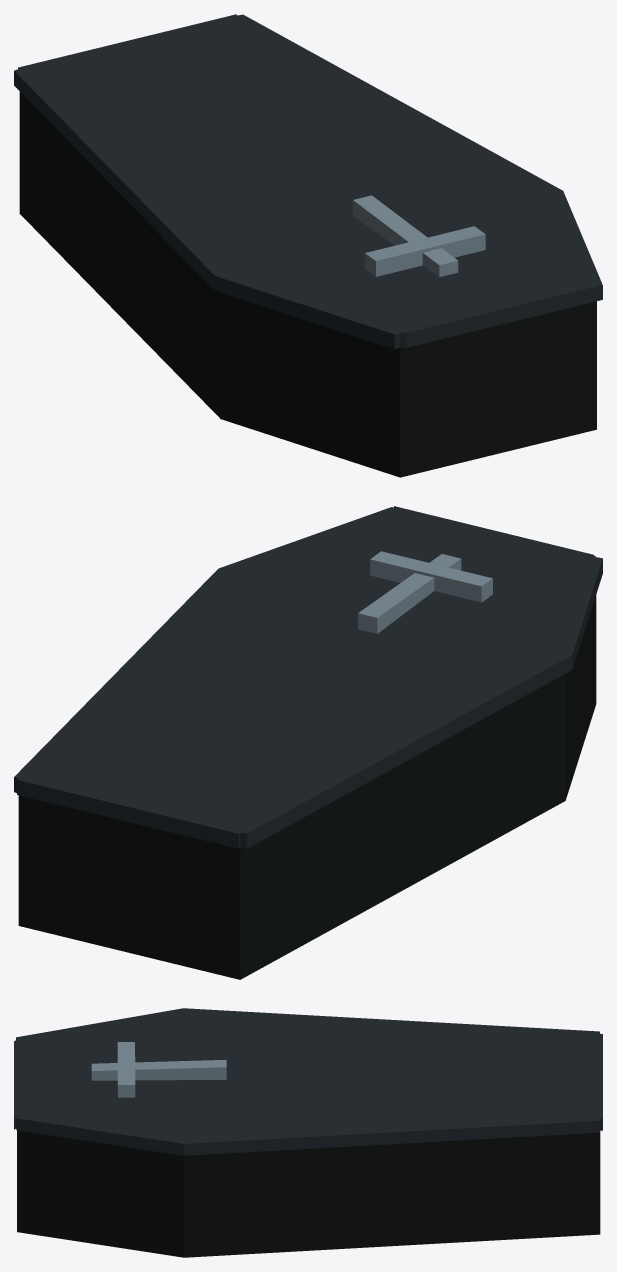
Rendered from Tumbas3.fbx.
The picture shows the model from 3 angles, top to bottom: view 1: azimuth 30°, elevation 25°; view 2: azimuth 150°, elevation 25°; view 3: azimuth 270°, elevation 25°; orthographic projection. The views are drawn at different scales.
Visible parts, largest first — view 1: Cube.001; view 2: Cube.001; view 3: Cube.001.
Boxes of the visible parts, bbox=[...] form: Cube.001: bbox=[14, 14, 602, 477]; Cube.001: bbox=[14, 506, 602, 979]; Cube.001: bbox=[14, 1008, 602, 1257].
Size of the model in its own units: 110 by 48.59 by 202.
